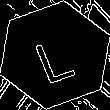L_N: (30, 26, 80, 84)
